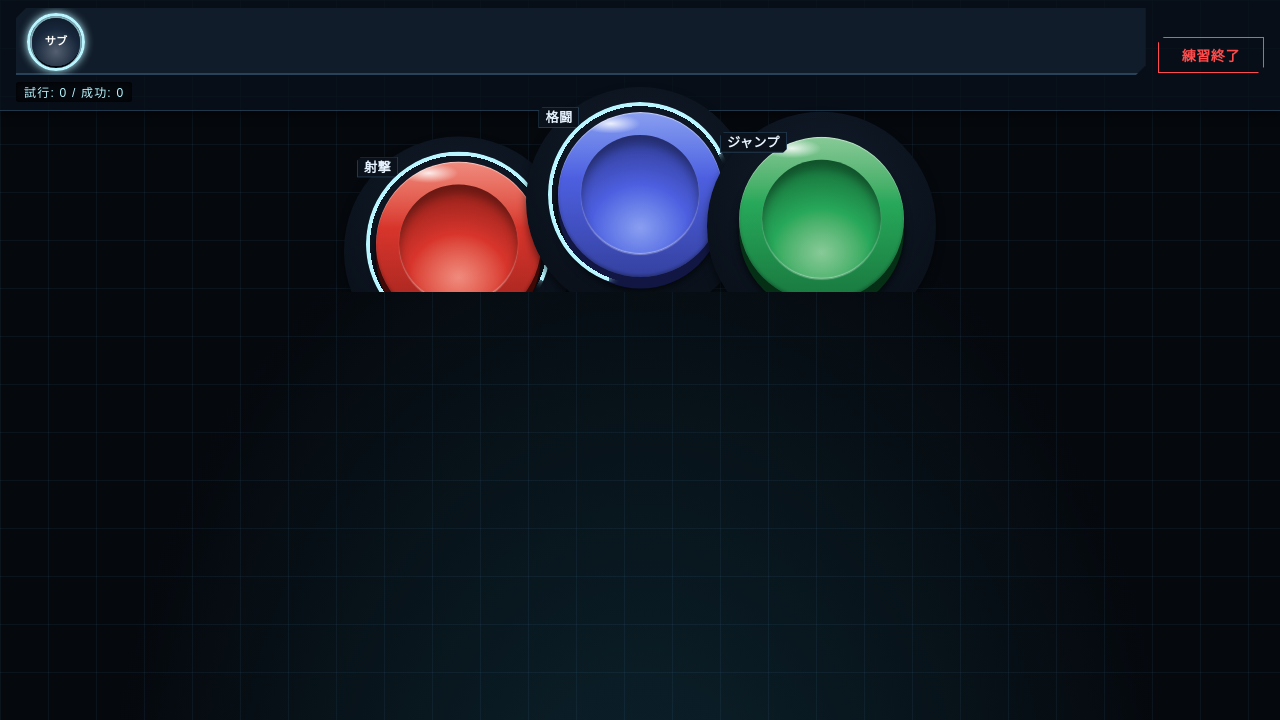
Test case: 拡張入力タイプの練習フロー › チャージ・サブ（リアルタイマー不要） › sub ステップで射撃+格闘同時押しにより成功判定される
The width and height of the screenshot is (1280, 720).
Press the mouse on the button "射撃" at (458, 244), box left=376, top=162, right=541, bottom=327
Press the mouse on the button "格闘" at (640, 195), box left=558, top=112, right=722, bottom=277
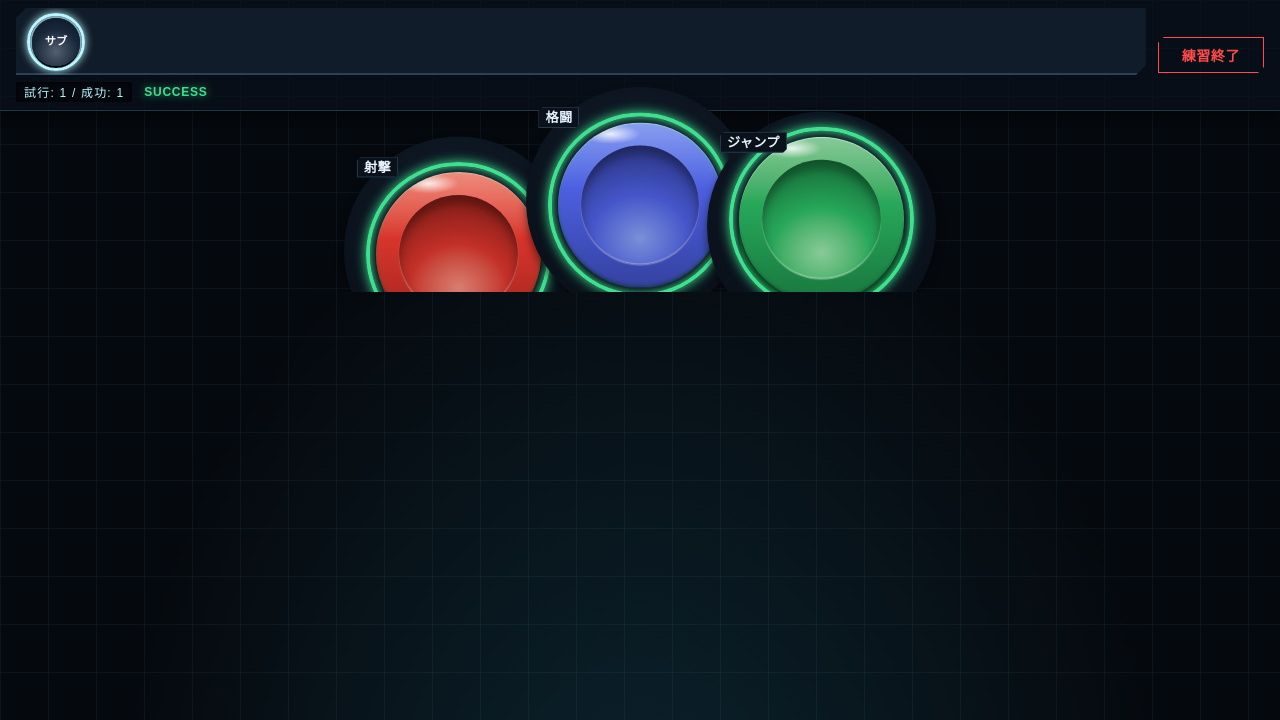
expect the text "SUCCESS" is shown: met, box left=144, top=85, right=207, bottom=99
